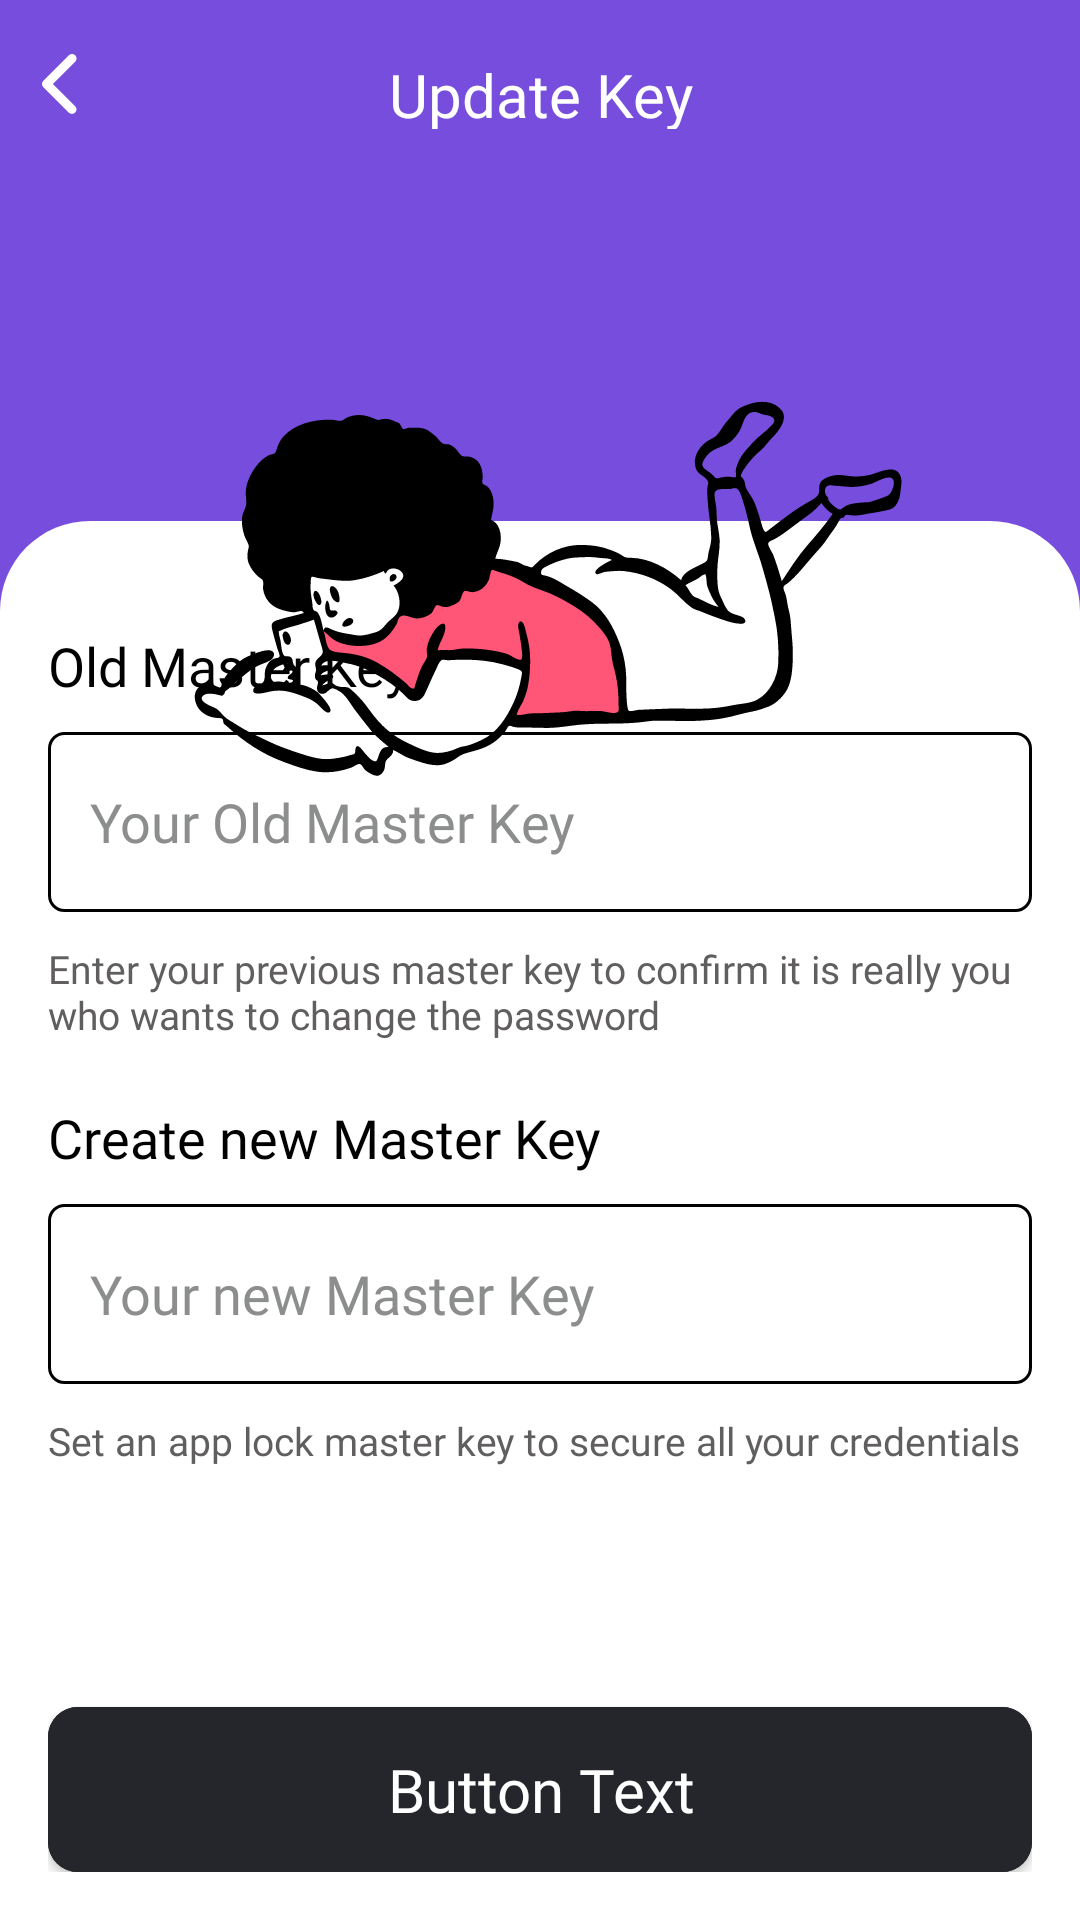

Where icons sit on this 1080px x 1920px app screen, as bbox=[x1, y1, x2, y2]:
back: bbox=[42, 54, 77, 114]
